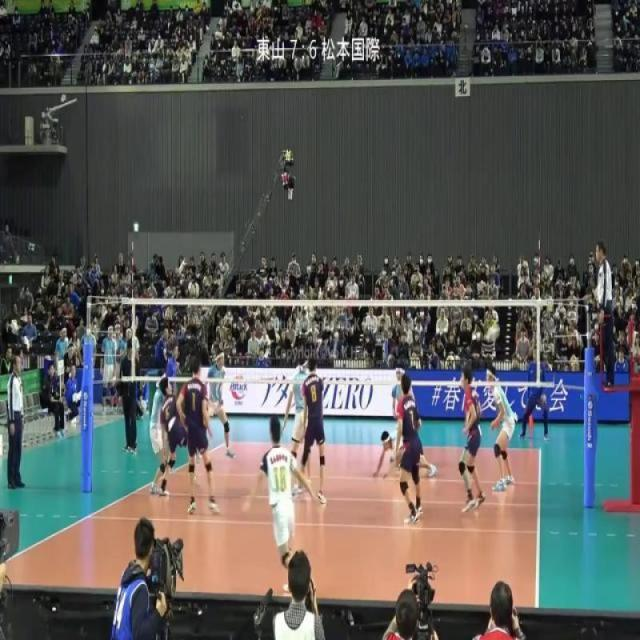volleyball: (486, 324, 500, 343)
